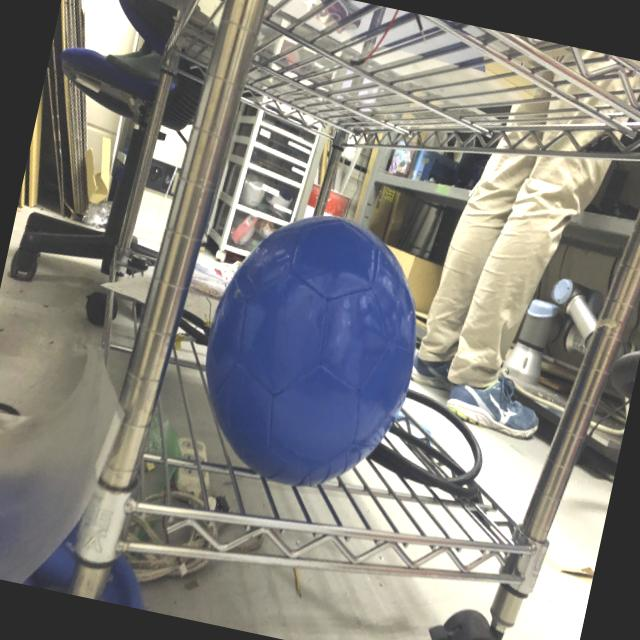blue_ball: (176, 198, 442, 508)
